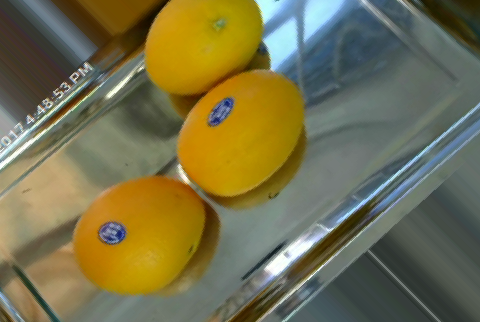Orange: (177, 68, 306, 196), (72, 175, 205, 295), (142, 0, 263, 95)
